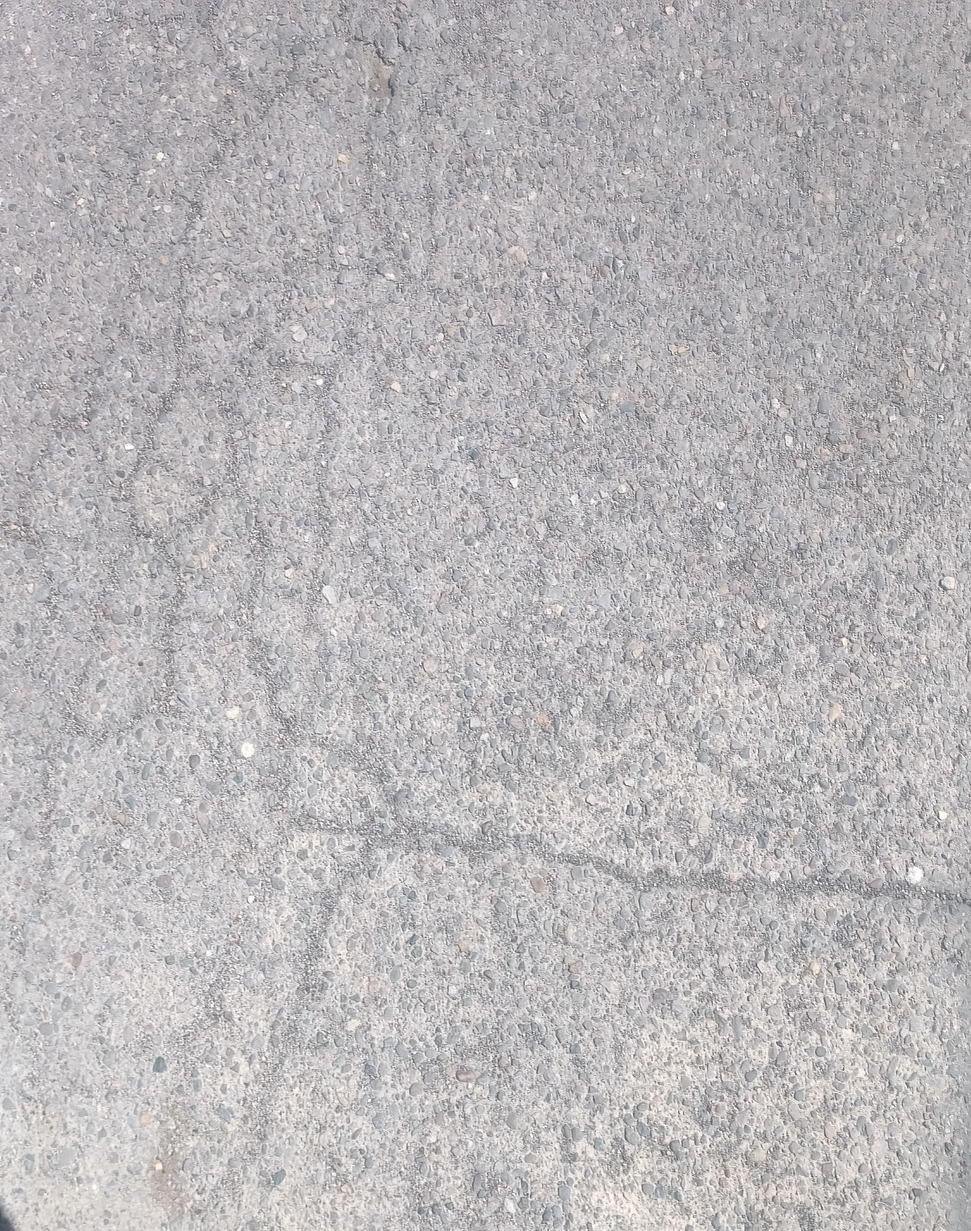GRIETA: (196, 899, 343, 1231), (420, 828, 969, 908), (150, 908, 251, 1228)
PIEL DE COCODRILO: (0, 0, 511, 907)
